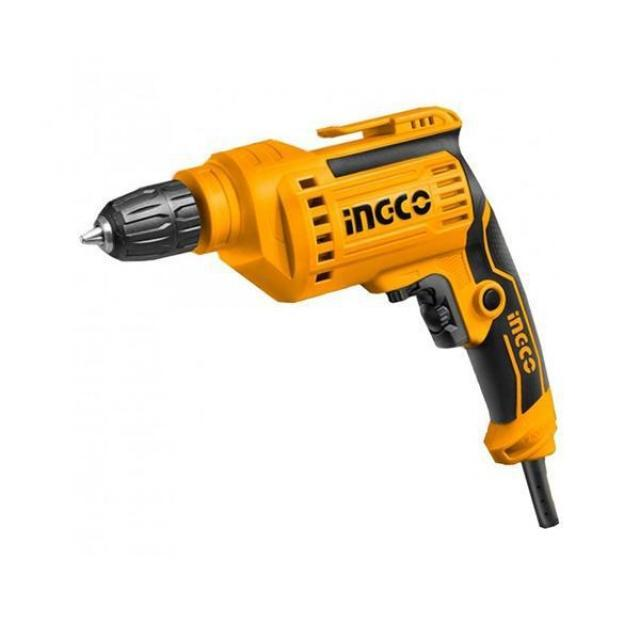drill: (78, 105, 560, 530)
